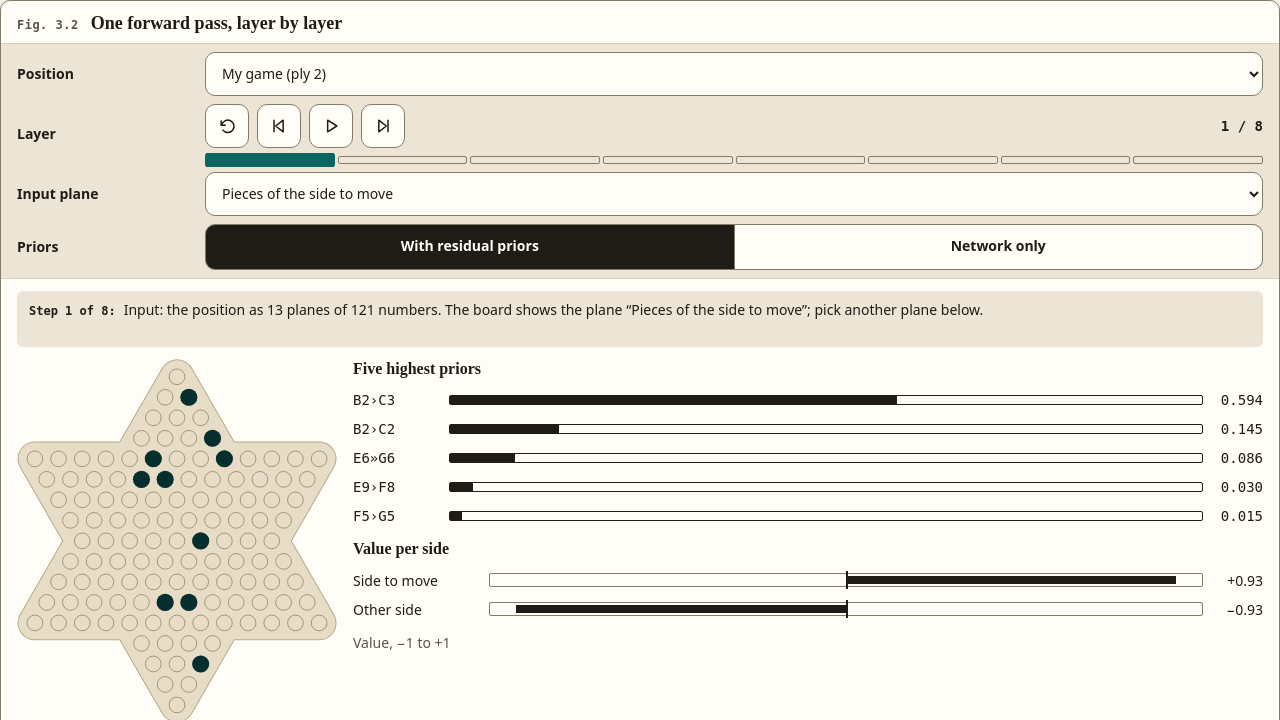
Test: V9b live › a model failure shows the model error and goes back to the example
Step 1. Select "My game (ply 2)" in the dropdown with class "ml-fig-select" showing "Position" → (734, 74), box x1=205 y1=52 x2=1263 y2=96
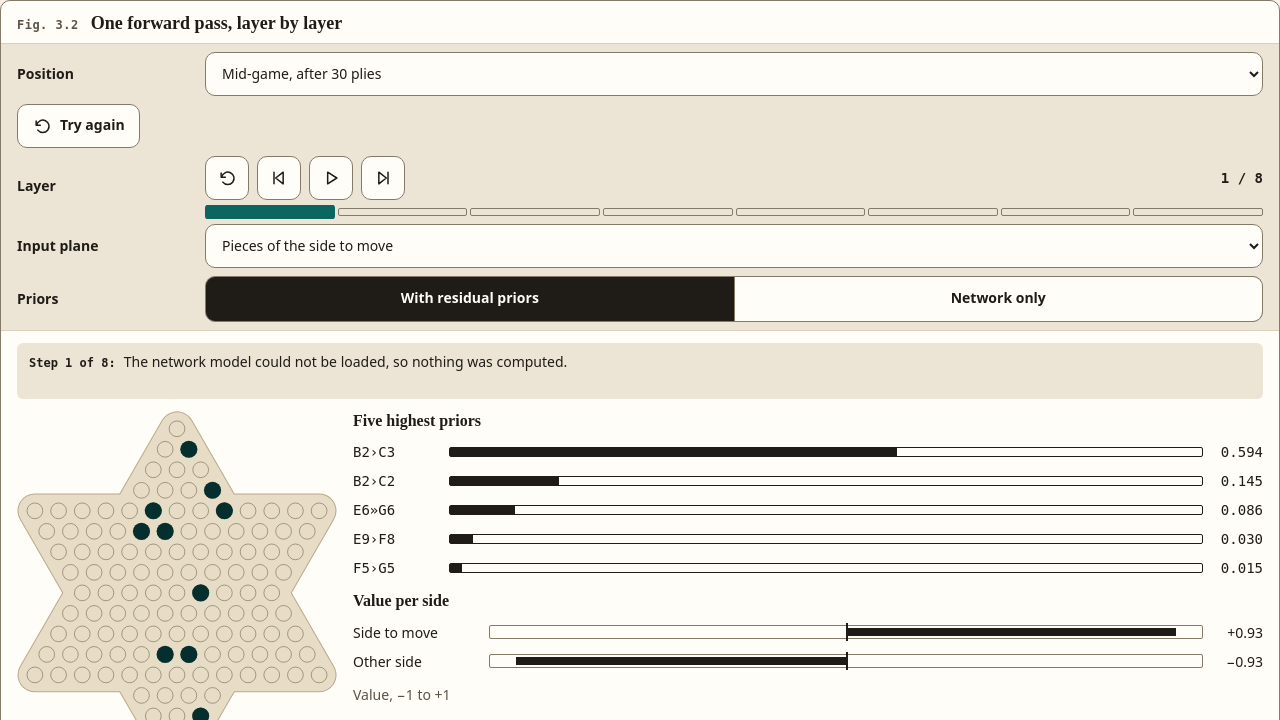
Check: the button "Try again" is shown, box x1=17 y1=104 x2=140 y2=148
